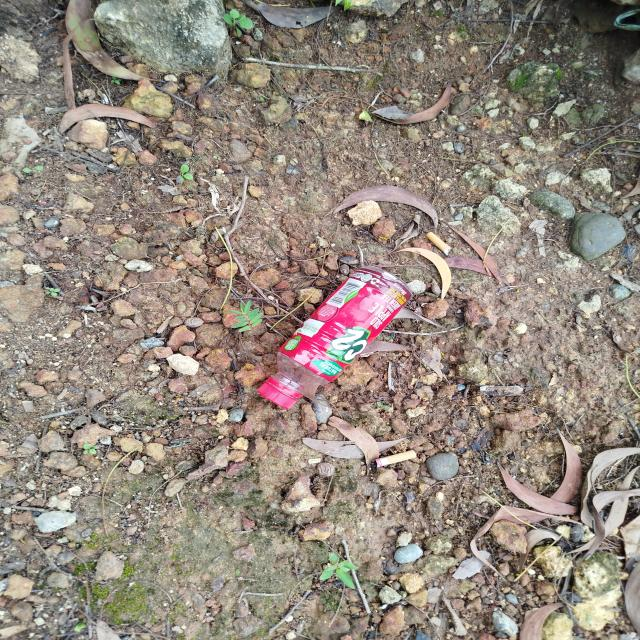plastic: (250, 260, 432, 420)
